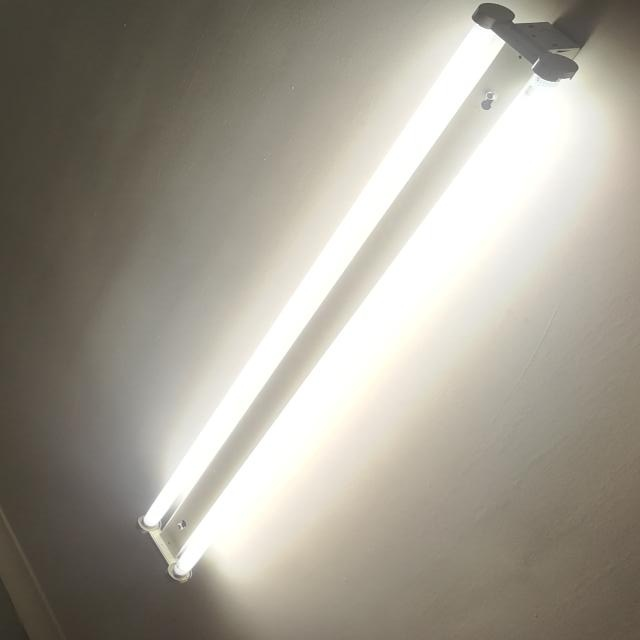fluorescent tube: (98, 0, 599, 591)
